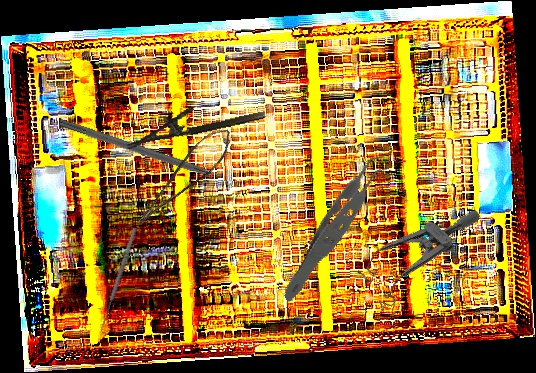Hook Surgical: (58, 117, 233, 188), (97, 225, 142, 337)
Micro Scissor: (120, 120, 244, 230)
Needle Holder: (121, 92, 267, 150)
Speculum: (347, 177, 483, 321)
Tissue Forceps: (246, 146, 436, 305)
